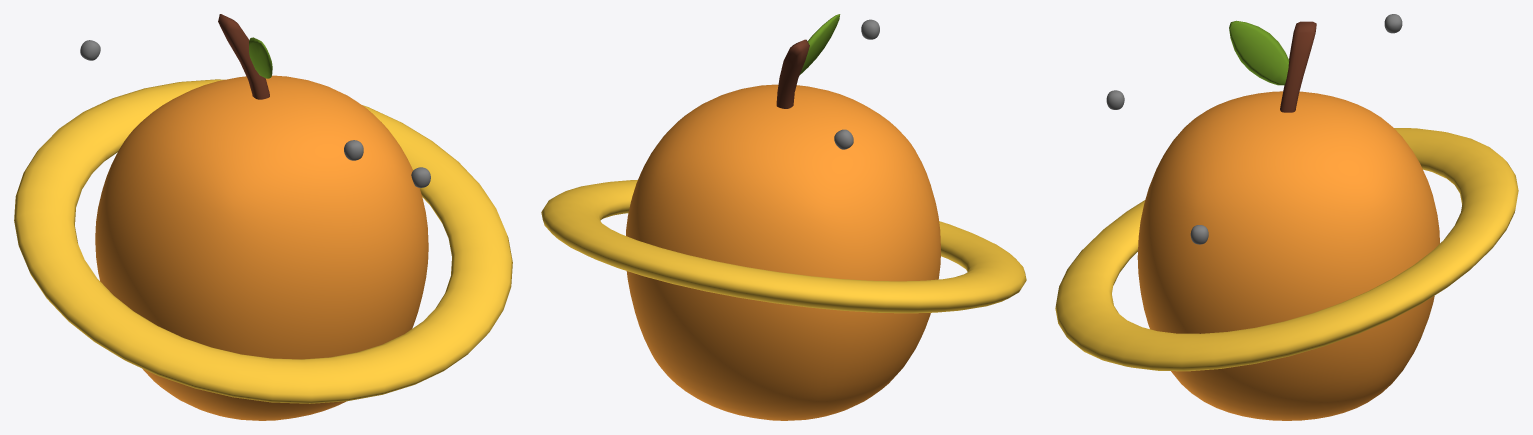
The model's file is apple_saturn.fbx.
3 views of the same model, side by side, from view 1: azimuth 30°, elevation 25°; view 2: azimuth 150°, elevation 25°; view 3: azimuth 270°, elevation 25° (orthographic). The views are drawn at different scales.
Parts seen in each view (by area): view 1: apple_standart, Torus, apple_standart.001; view 2: apple_standart, Torus, apple_standart.001; view 3: apple_standart, Torus, apple_standart.001.
Part boxes in pixels (x1,y1,x2,y2): apple_standart: (95, 75, 428, 420); Torus: (14, 79, 512, 403); apple_standart.001: (218, 14, 272, 99); apple_standart: (626, 84, 940, 420); Torus: (541, 180, 1026, 313); apple_standart.001: (776, 14, 840, 108); apple_standart: (1137, 91, 1439, 420); Torus: (1055, 128, 1518, 371); apple_standart.001: (1229, 20, 1316, 112).
Bounding box in the file's own units: 87.56 × 73.8 × 84.27.
